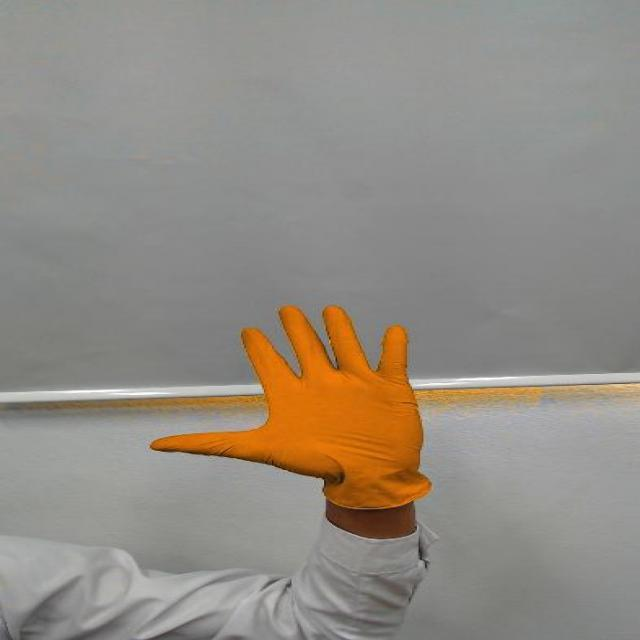Glove: (135, 298, 458, 479)
